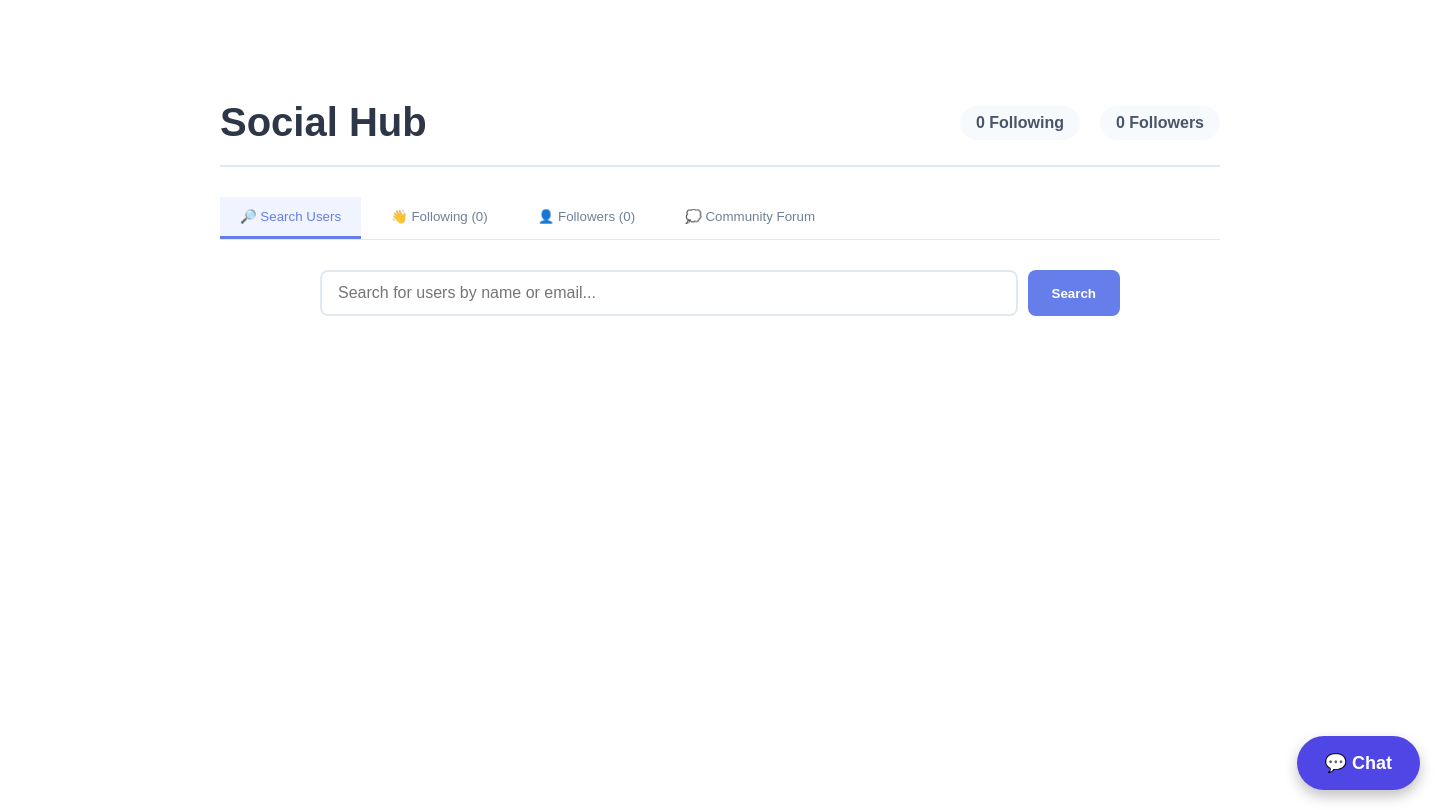
Scenario: SocialPage › switches to Followers tab and displays followers
Click the button "👤 Followers (0)" at (586, 218), box [518, 197, 655, 239]
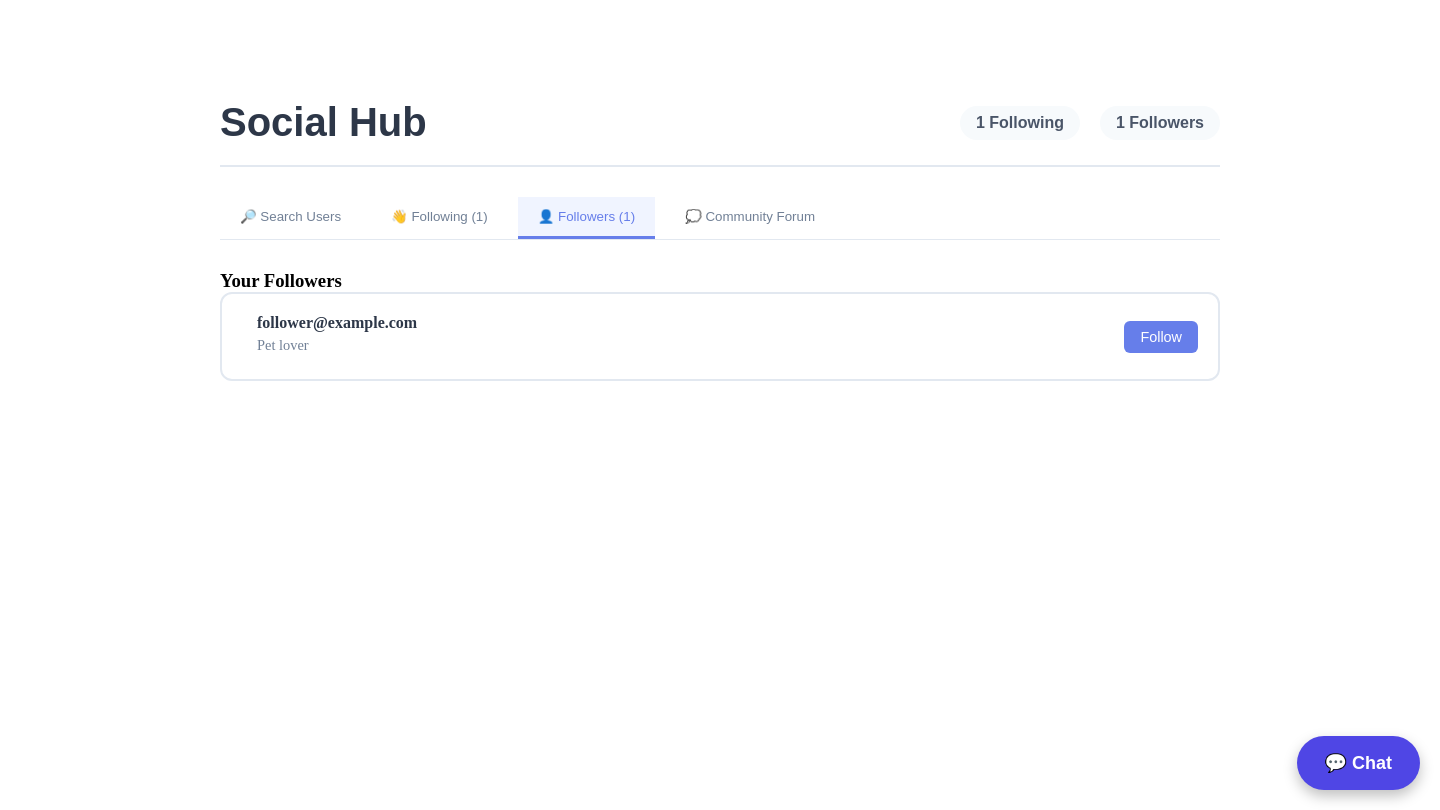
Check: the heading "Your Followers" is shown, box [220, 270, 342, 291]
Check: the heading "follower@example.com" is shown, box [257, 314, 417, 331]
